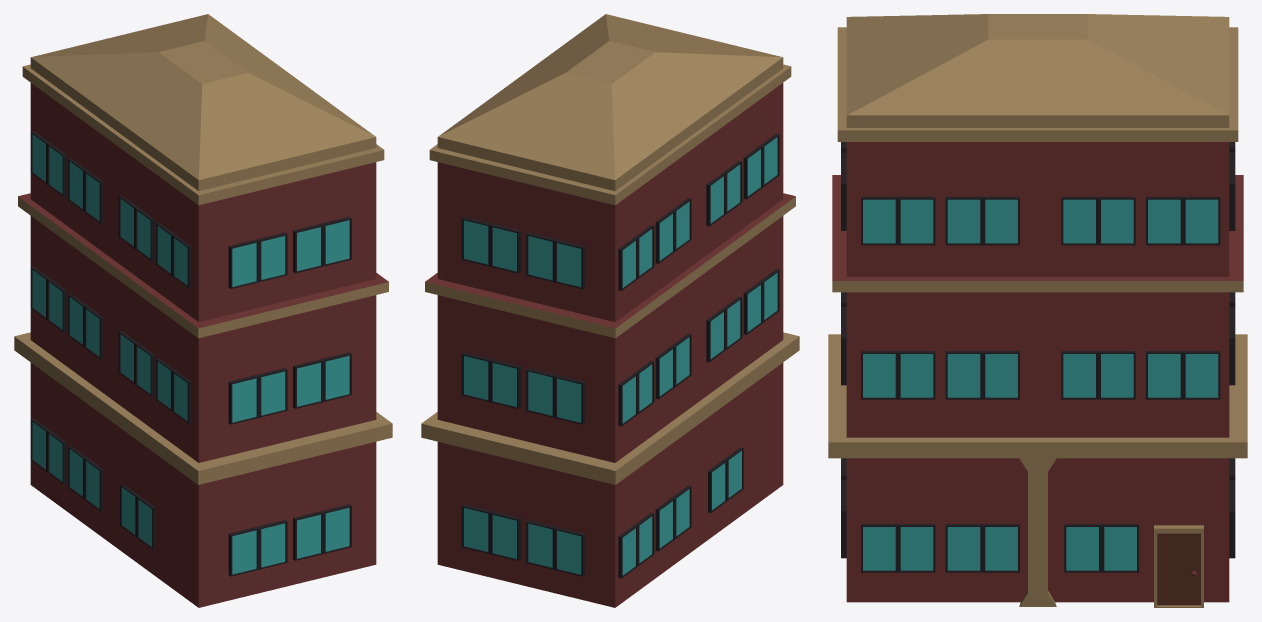
File: apartment1.fbx
3 views of the same model, side by side, from view 1: azimuth 30°, elevation 25°; view 2: azimuth 150°, elevation 25°; view 3: azimuth 270°, elevation 25° (orthographic). The views are drawn at different scales.
Visible parts, largest first — view 1: Cube, Cube.014, Cube.001, Cube.035, Cube.037, Cube.033, Cube.034, Cube.036, Cube.038, Cube.017, Cube.019, Cube.021 (+8 smaller); view 2: Cube, Cube.014, Cube.001, Cube.027, Cube.030, Cube.031, Cube.032, Cube.028, Cube.029, Cube.018, Cube.021, Cube.020 (+8 smaller); view 3: Cube, Cube.014, Cube.001, Cube.012, Cube.010, Cube.011, Cube.013, Cube.006, Cube.003, Cube.007, Cube.004, Cube.005 (+4 smaller).
Part boxes in pixels (x1,y1,x2,y2): Cube: (18, 83, 388, 607); Cube.014: (30, 14, 376, 190); Cube.001: (14, 64, 392, 484); Cube.035: (228, 368, 287, 424); Cube.037: (228, 232, 287, 288); Cube.033: (228, 520, 287, 576); Cube.034: (293, 504, 351, 560); Cube.036: (293, 352, 351, 408); Cube.038: (293, 216, 351, 273); Cube.017: (30, 418, 66, 484); Cube.019: (30, 266, 66, 332); Cube.021: (118, 331, 154, 396); Cube: (425, 83, 795, 607); Cube.014: (437, 14, 783, 190); Cube.001: (421, 64, 799, 484); Cube.027: (461, 504, 520, 560); Cube.030: (526, 368, 585, 424); Cube.031: (461, 216, 520, 273); Cube.032: (526, 232, 585, 289); Cube.028: (526, 520, 585, 576); Cube.029: (461, 352, 520, 408); Cube.018: (655, 485, 691, 551); Cube.021: (706, 296, 742, 362); Cube.020: (655, 333, 691, 399); Cube: (832, 142, 1243, 602); Cube.014: (846, 14, 1229, 127); Cube.001: (828, 27, 1247, 606); Cube.012: (1061, 196, 1135, 245); Cube.010: (861, 196, 935, 245); Cube.011: (945, 196, 1019, 245); Cube.013: (1146, 196, 1220, 245); Cube.006: (1064, 524, 1138, 572); Cube.003: (861, 524, 935, 572); Cube.007: (945, 524, 1019, 572); Cube.004: (861, 351, 935, 399); Cube.005: (945, 351, 1019, 399).
Bounding box in the file's own units: 738 × 1683 × 1210.
4 materials, 1 textured.
